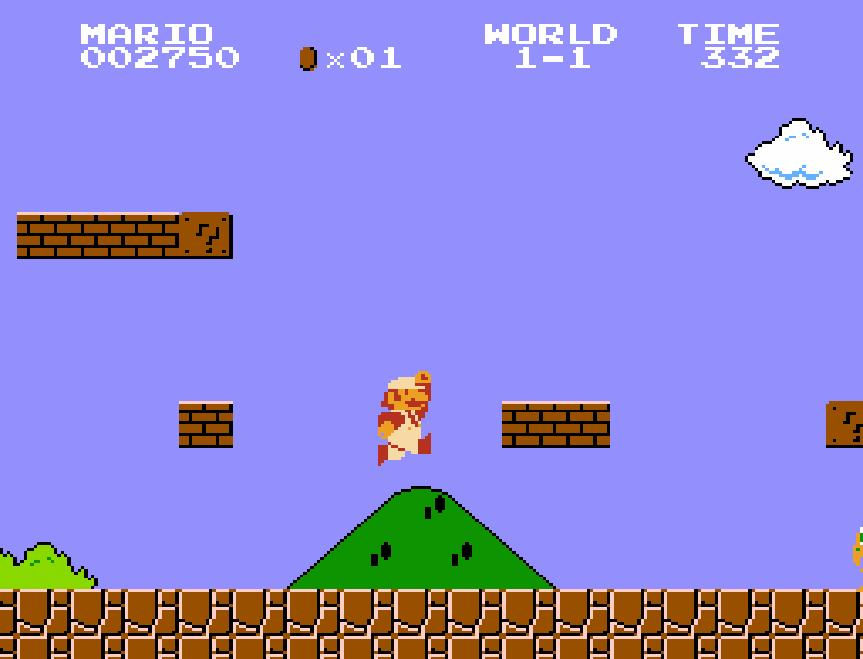fire_mario: (376, 369, 434, 467)
